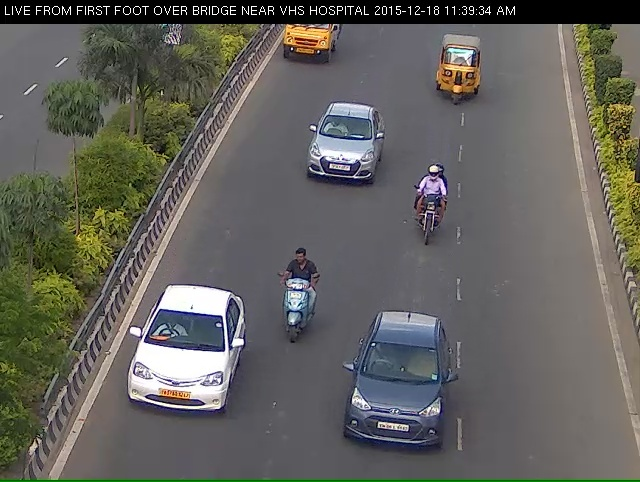Car: (340, 330, 442, 480), (118, 314, 225, 456), (303, 121, 374, 204), (270, 18, 348, 72), (430, 41, 484, 111)
Person: (408, 183, 450, 272), (270, 270, 304, 371)
